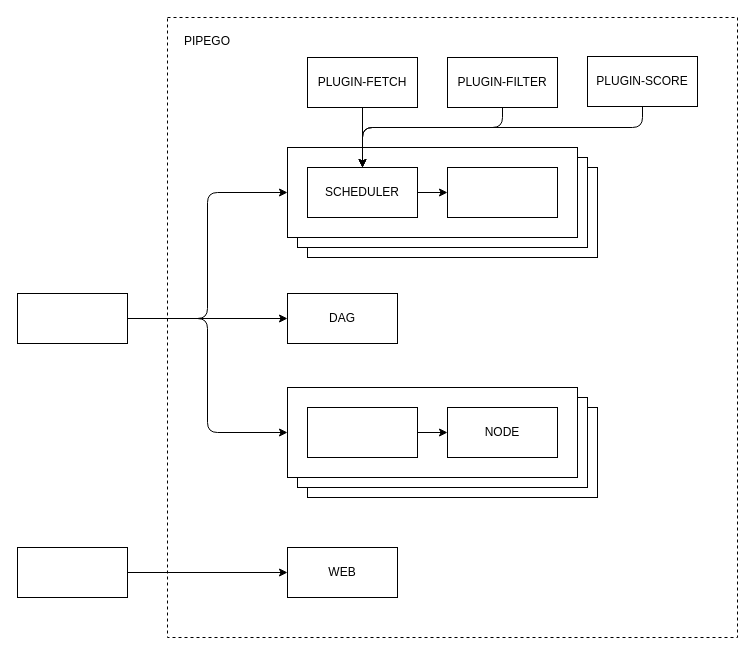
Image size: 755x655. Some labels were removed from this diagram. Here are the shapes that lost their labels. From the top down, the box of each, then its label:
(446, 166, 558, 218): TASK
(16, 292, 128, 344): CLI
(306, 406, 418, 458): RUNNER
(16, 546, 128, 598): BROWSER
